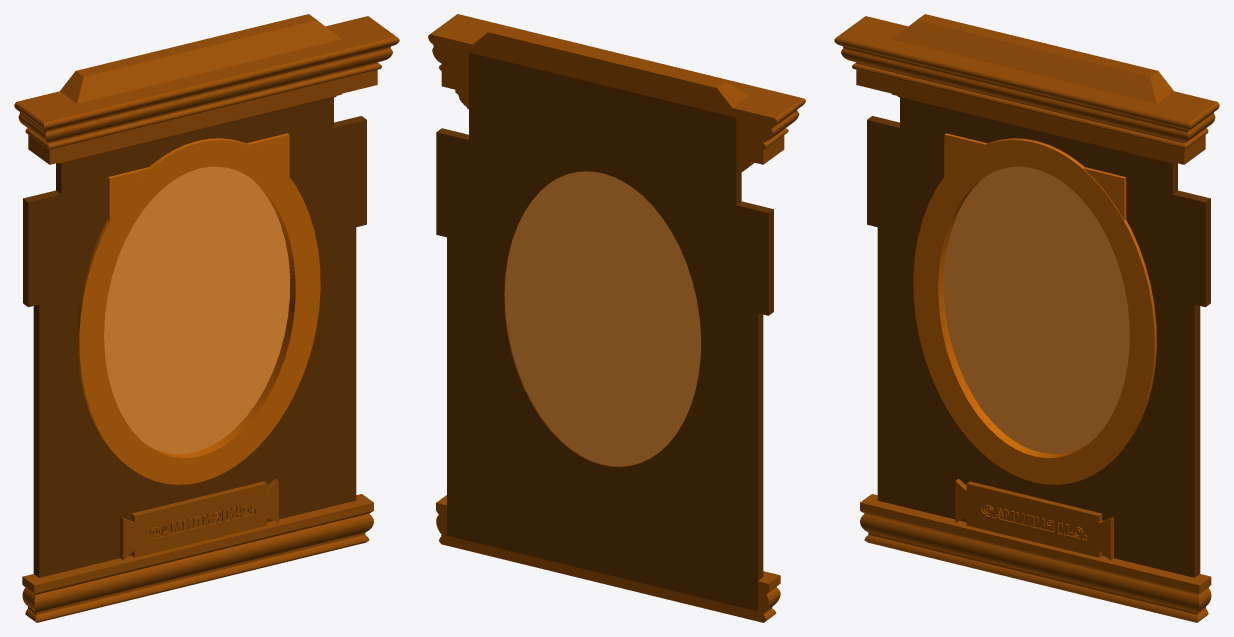
File: портрет_0.obj
3 views of the same model, side by side, from view 1: azimuth 30°, elevation 25°; view 2: azimuth 150°, elevation 25°; view 3: azimuth 330°, elevation 25° (orthographic).
Bounding box in the file's own units: 1.12 × 1.6 × 0.1603.
